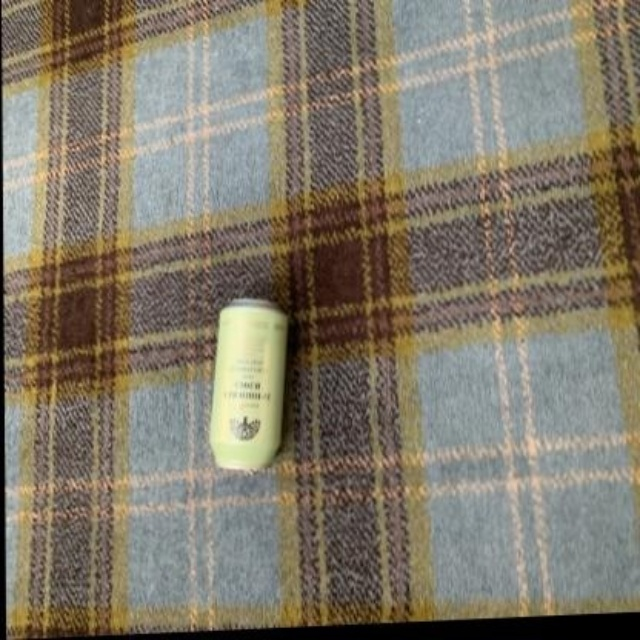trash: (209, 298, 286, 468)
